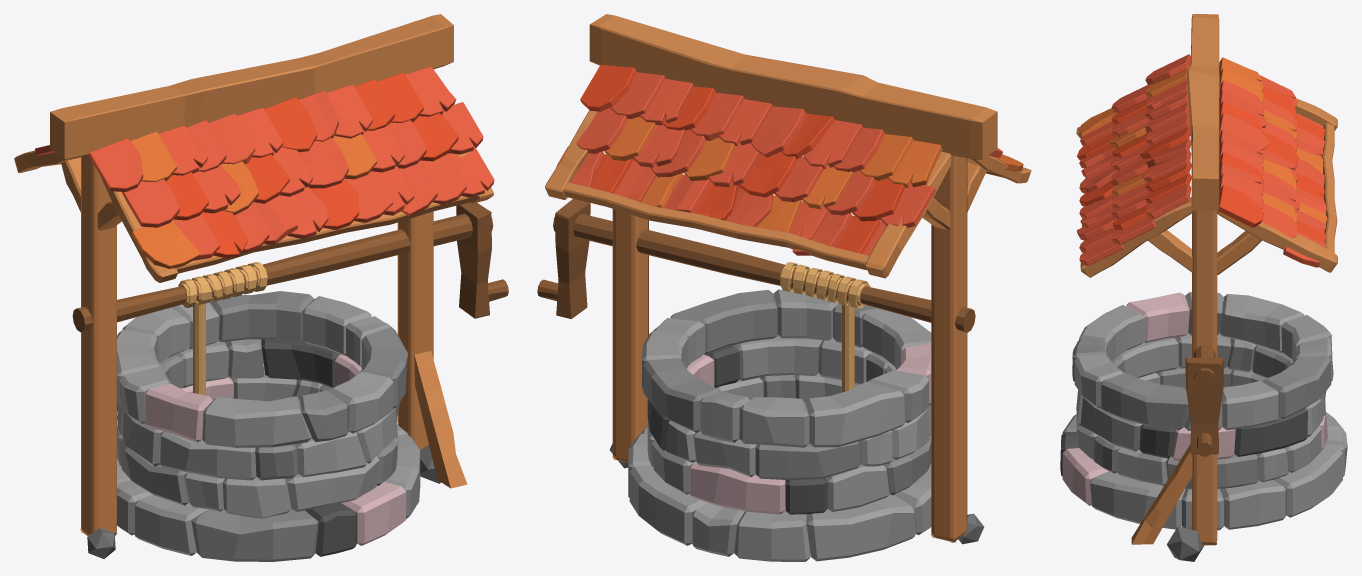
The model's file is Low Poly Well.fbx.
The picture shows the model from 3 angles, left to right: view 1: azimuth 30°, elevation 25°; view 2: azimuth 150°, elevation 25°; view 3: azimuth 270°, elevation 25°; orthographic projection. The views are drawn at different scales.
Parts seen in each view (by area): view 1: Well Feeder; view 2: Well Feeder; view 3: Well Feeder.
Boxes of the visible parts, x1,y1,x2,y2 form: Well Feeder: (14,14,508,561); Well Feeder: (537,14,1031,561); Well Feeder: (1060,14,1347,561).
Size of the model in its own units: 2390 by 2289 by 1521.
